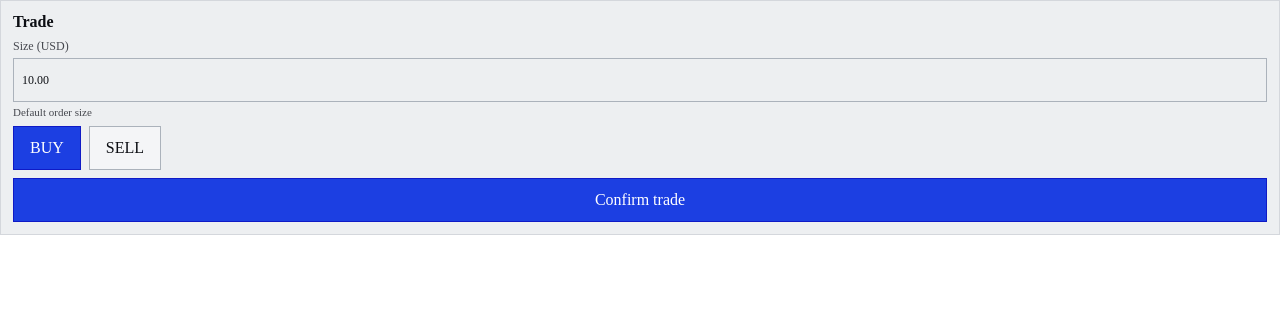
the web ticket sends what the API's amount-priced route accepts › shows the API's sentence on a refusal, not its code
Step 1. Replace the text in the field labelled "Size (USD) Default order size" with "10" → (640, 80), box [13,58,1267,102]
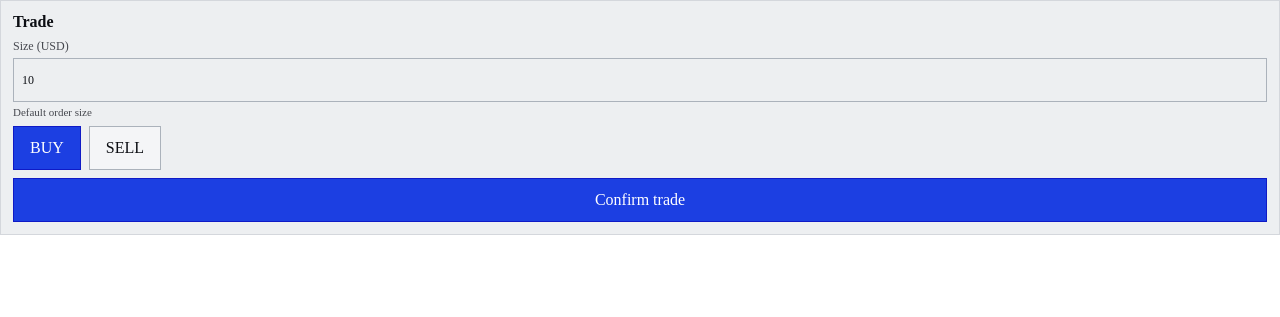
Step 2. Click the button "Confirm trade" → (640, 200), box [13,178,1267,222]
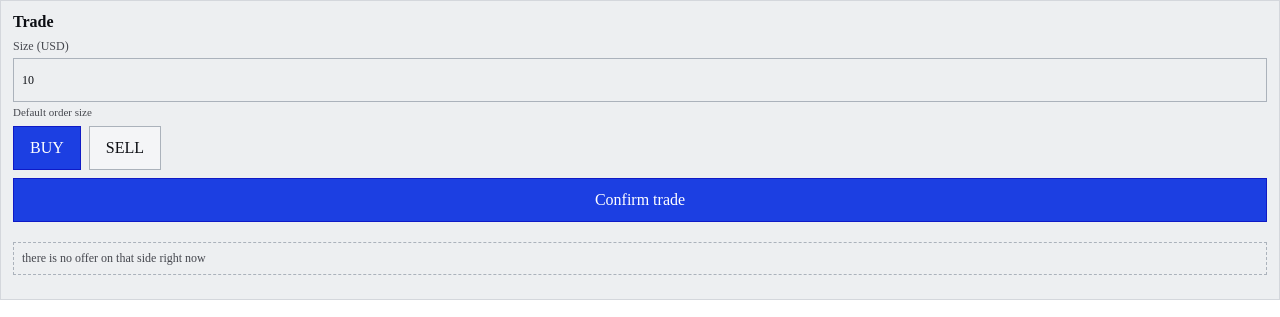
Check: the message shows "no offer", box [22,251,206,265]
